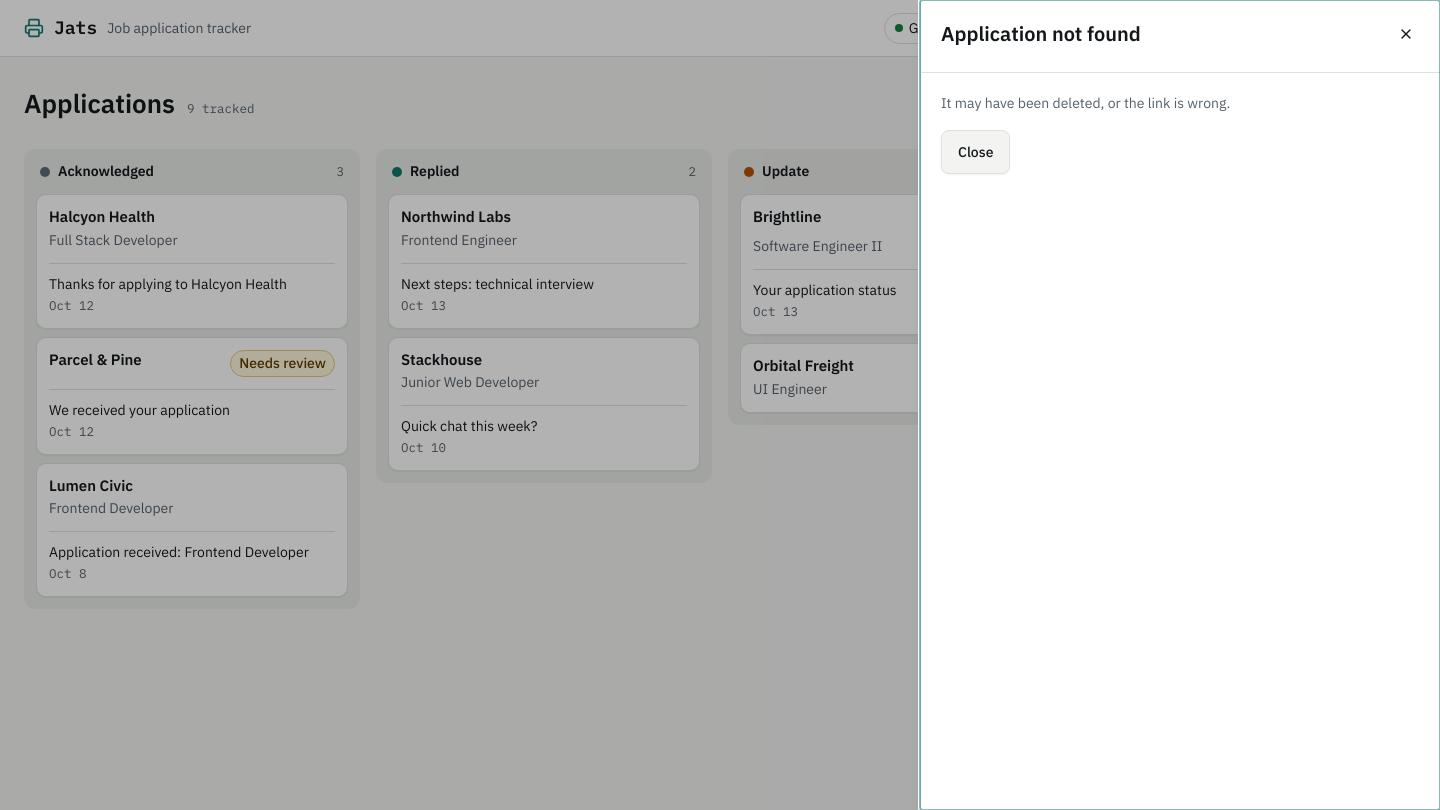
it: a 404 shows "Application not found" with a close button
This screenshot has width=1440, height=810.
Click the button "Close".
click(976, 152)  # box x1=941 y1=130 x2=1010 y2=174
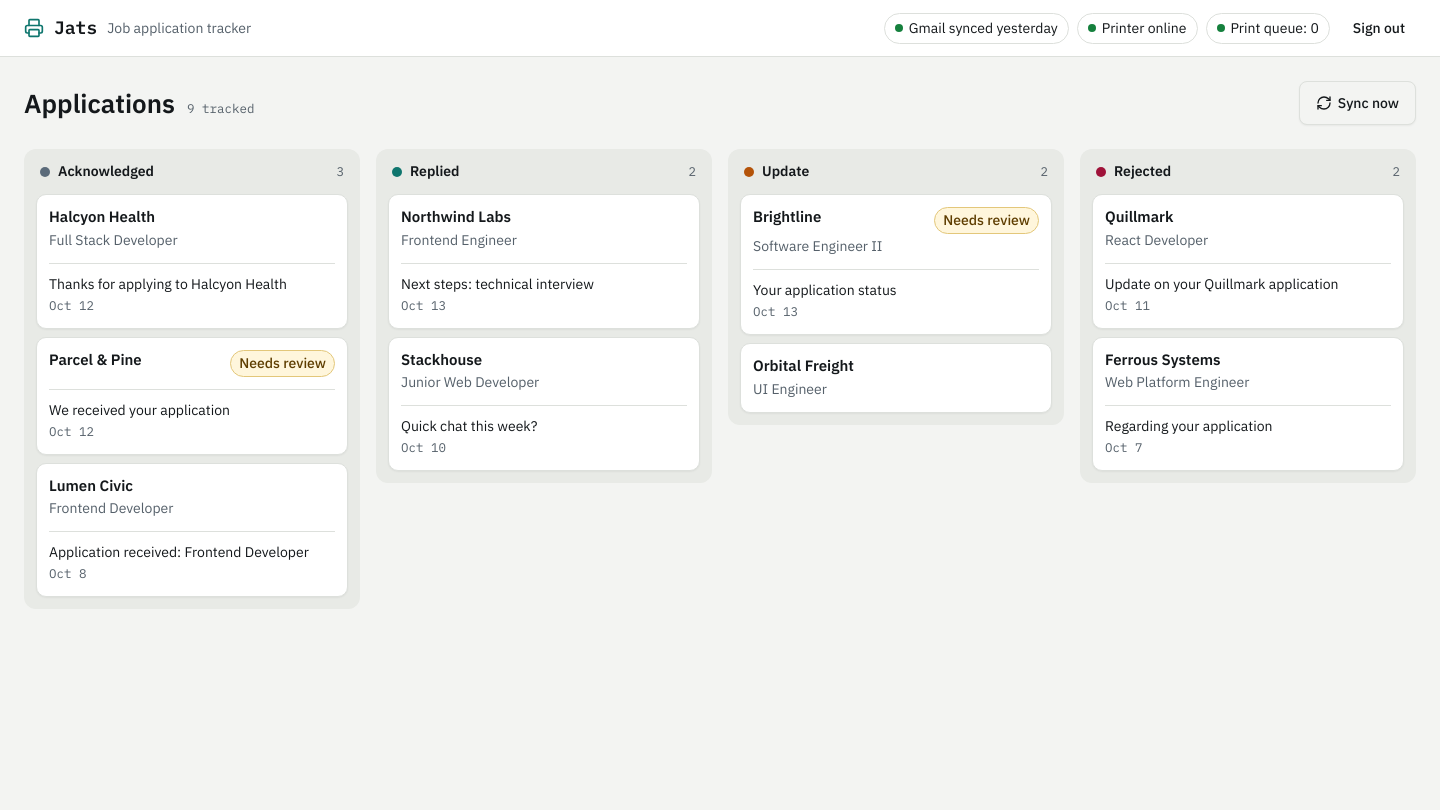
Expected: the dialog is gone
